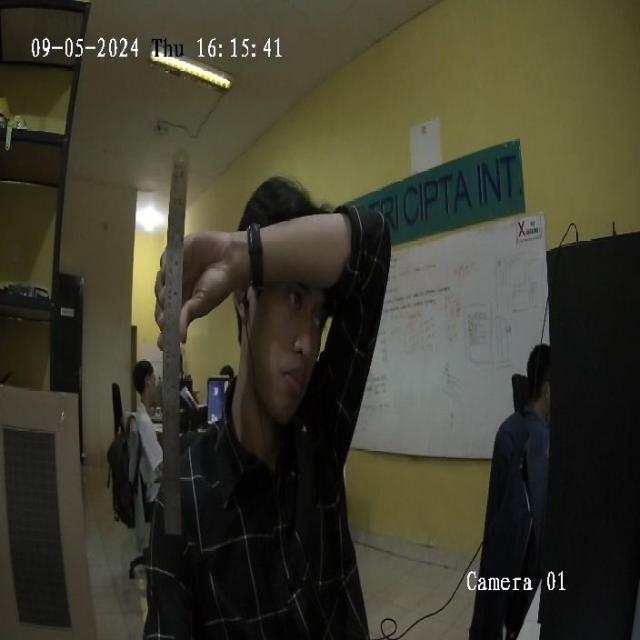Ruler: (162, 149, 188, 534)
